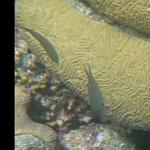alive: (12, 9, 146, 148)
